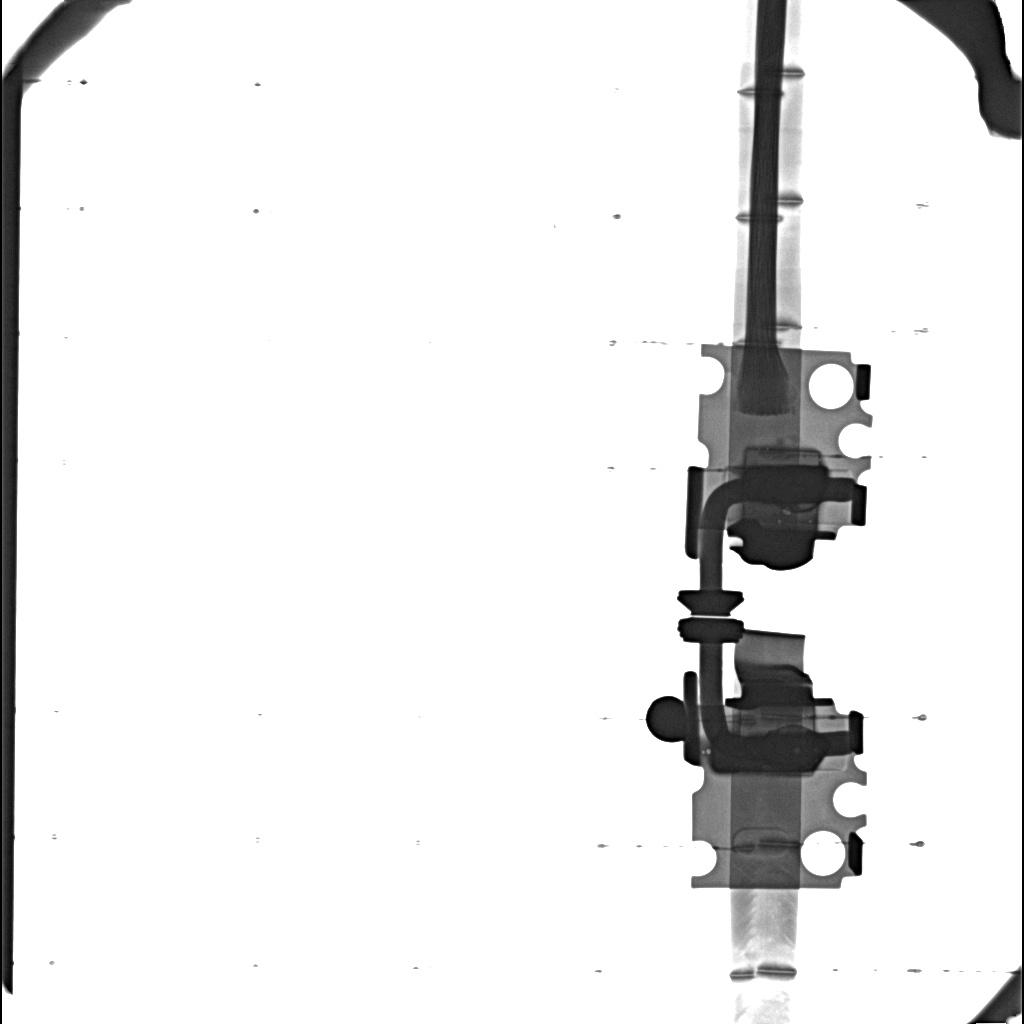PX: (743, 446, 821, 466)
QP: (782, 508, 791, 515)
SX: (713, 730, 828, 772), (743, 465, 826, 504)
